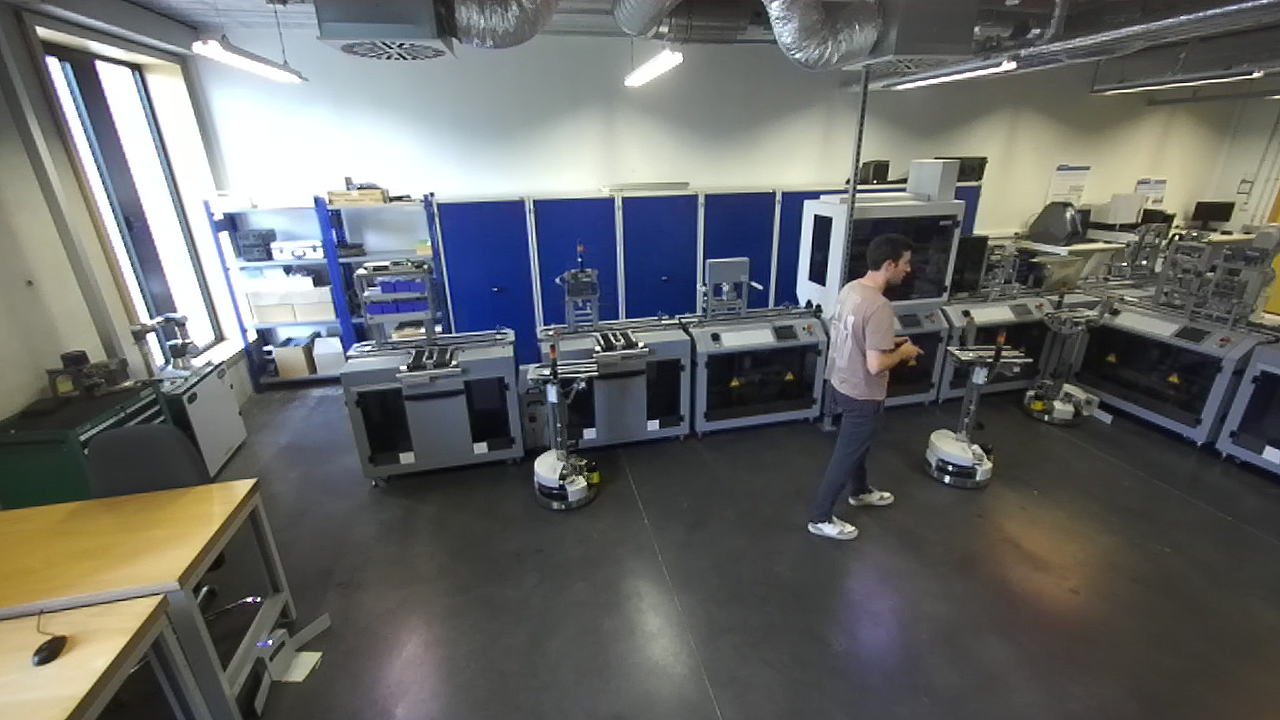AMR: (923, 307, 1036, 495), (522, 329, 607, 510), (1027, 275, 1115, 426)
Human: (804, 230, 922, 543)
